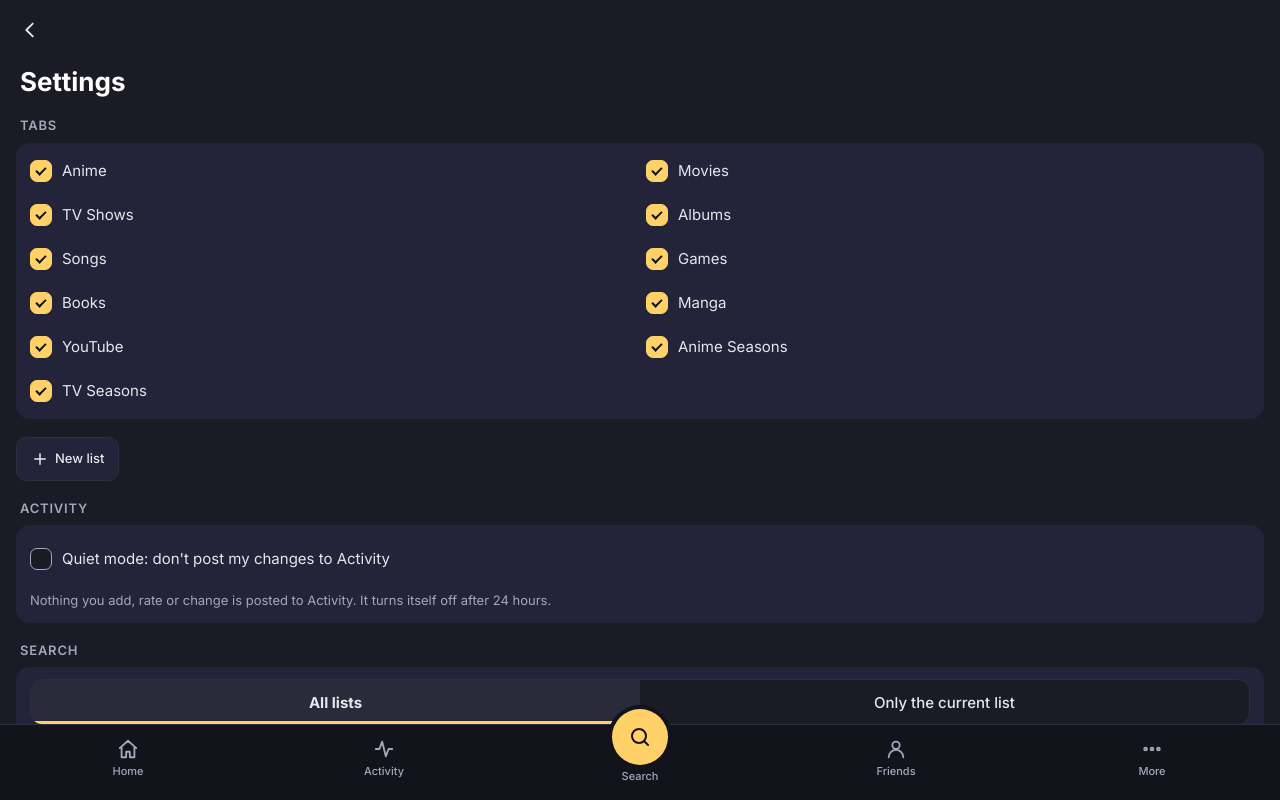
Test case: SettingsScreen › turns a tab back on if the save fails
The width and height of the screenshot is (1280, 800).
What coordinates should you click on to do the following:
click the switch labelled "Books"
I would click on:
 (41, 303)
Its box is [30,292,52,314].
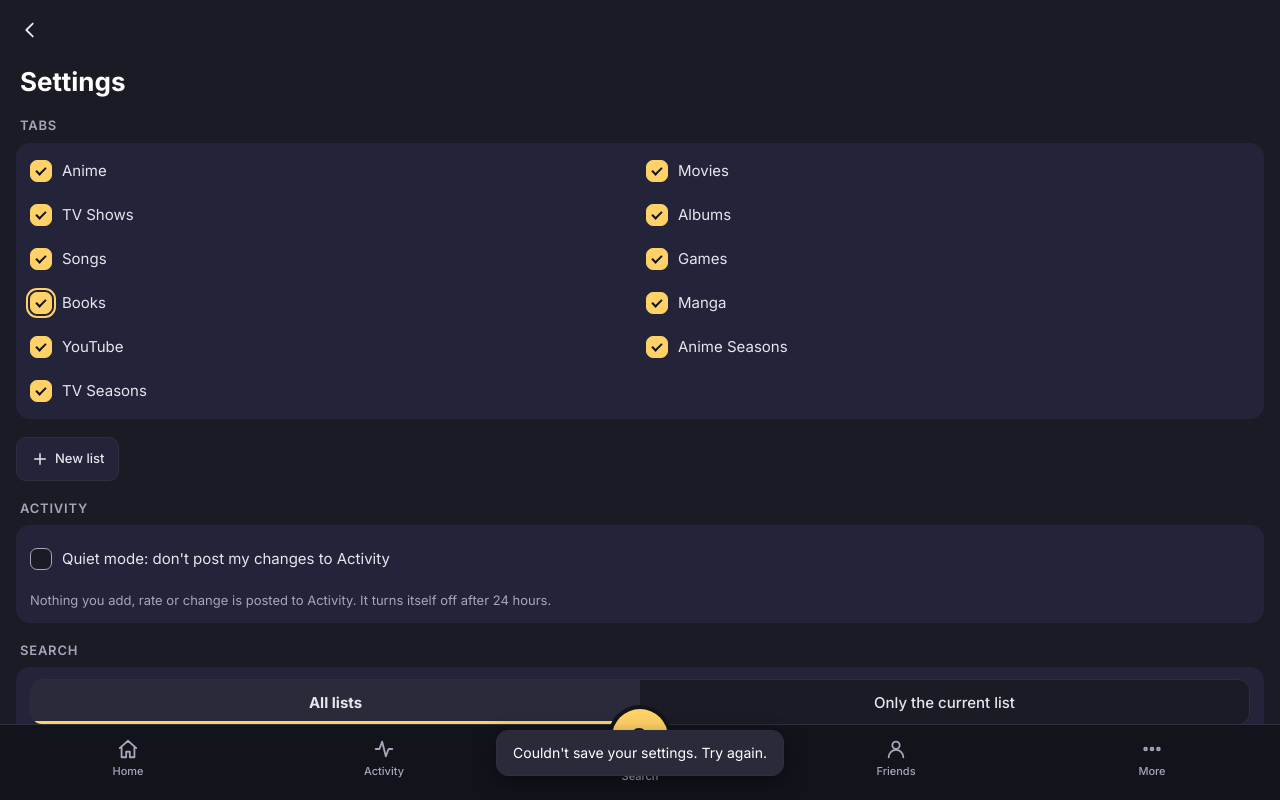
expect the message shows "Couldn't save your settings": met, box [513,744,767,761]
